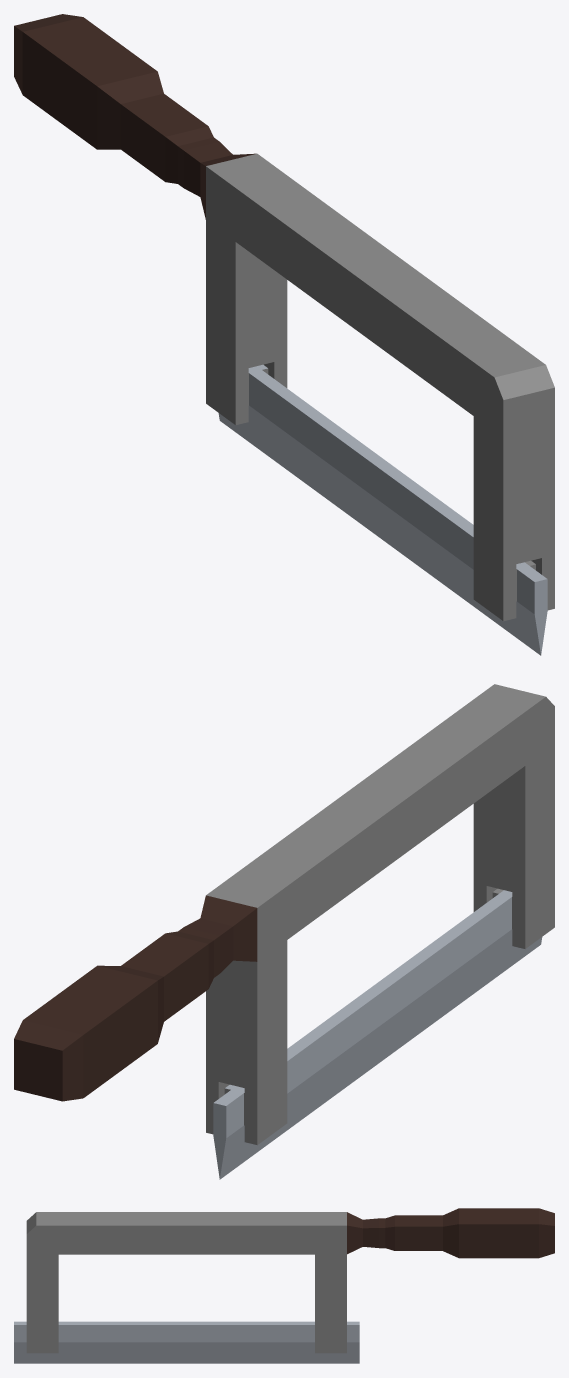
Rendered from sauscie.fbx.
3 views of the same model, one above another, from view 1: azimuth 30°, elevation 25°; view 2: azimuth 150°, elevation 25°; view 3: azimuth 270°, elevation 25° (orthographic). The views are drawn at different scales.
Parts seen in each view (by area): view 1: Cube.003, Cube, Cube.001; view 2: Cube.003, Cube.001, Cube; view 3: Cube.003, Cube, Cube.001.
Part boxes in pixels (left/top/right/bottom): Cube.003: left=206, top=153, right=554, bottom=621; Cube: left=218, top=364, right=547, bottom=655; Cube.001: left=14, top=14, right=256, bottom=219; Cube.003: left=206, top=684, right=554, bottom=1145; Cube.001: left=14, top=895, right=257, bottom=1101; Cube: left=213, top=890, right=542, bottom=1179; Cube.003: left=26, top=1212, right=346, bottom=1353; Cube: left=14, top=1321, right=359, bottom=1363; Cube.001: left=347, top=1208, right=554, bottom=1258.
Bounding box in the file's own units: 118 × 509 × 1690.
